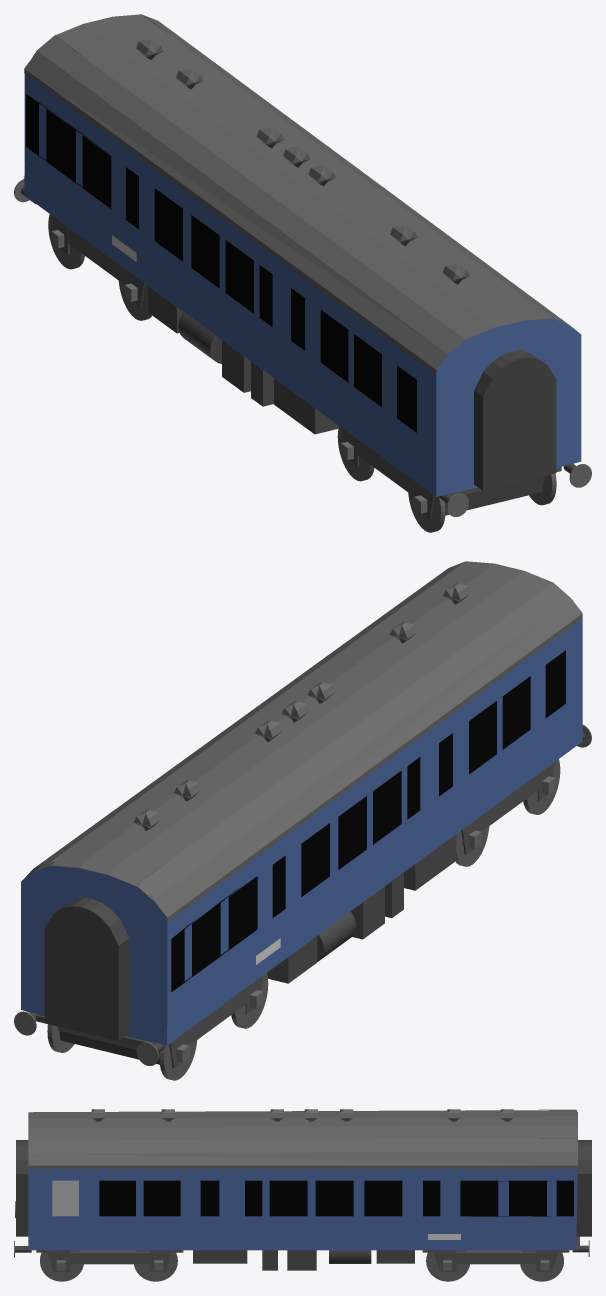
File: BR-101-tsl-b.dae
3 views of the same model, one above another, from view 1: azimuth 30°, elevation 25°; view 2: azimuth 150°, elevation 25°; view 3: azimuth 270°, elevation 25° (orthographic). The views are drawn at different scales.
Visible parts, largest first — view 1: BR-cl101-front_rear, Cube, Cube_060_001, Cube_001, Cube_043_001, Cube_043, Cylinder_002, Cube_003, Cube_004, Cube_002, Cylinder_011_001; view 2: BR-cl101-front_rear, Cube_005, Cube_043, Cube_001, Cube_043_001, Cube_004, Cube_003, Cube_061, Cylinder_002, Cylinder_010, Cube_002; view 3: BR-cl101-front_rear, Cube_005, Cube_043, Cube_043_001, Cube, Cube_001, Cube_003, Cylinder_009_001, Cylinder_008, Cylinder_009, Cylinder_008_001, Cylinder_003 (+4 smaller).
Boxes of the visible parts, bbox=[...] form: BR-cl101-front_rear: bbox=[24, 14, 581, 496]; Cube: bbox=[474, 351, 556, 490]; Cube_060_001: bbox=[422, 467, 561, 519]; Cube_001: bbox=[274, 378, 338, 434]; Cube_043_001: bbox=[357, 439, 431, 508]; Cube_043: bbox=[68, 228, 141, 296]; Cylinder_002: bbox=[178, 312, 221, 363]; Cube_003: bbox=[222, 340, 250, 392]; Cube_004: bbox=[148, 286, 183, 333]; Cube_002: bbox=[251, 361, 273, 406]; Cylinder_011_001: bbox=[408, 493, 445, 532]; BR-cl101-front_rear: bbox=[21, 561, 582, 1045]; Cube_005: bbox=[44, 896, 129, 1040]; Cube_043: bbox=[58, 977, 260, 1058]; Cube_001: bbox=[404, 834, 456, 890]; Cube_043_001: bbox=[462, 764, 552, 844]; Cube_004: bbox=[167, 923, 317, 983]; Cube_003: bbox=[351, 886, 384, 939]; Cube_061: bbox=[59, 1031, 186, 1067]; Cylinder_002: bbox=[317, 911, 355, 961]; Cylinder_010: bbox=[159, 1040, 197, 1080]; Cube_002: bbox=[385, 872, 403, 918]; BR-cl101-front_rear: bbox=[28, 1109, 579, 1250]; Cube_005: bbox=[576, 1140, 591, 1236]; Cube_043: bbox=[456, 1250, 555, 1264]; Cube_043_001: bbox=[70, 1250, 169, 1264]; Cube: bbox=[16, 1140, 28, 1236]; Cube_001: bbox=[193, 1250, 247, 1263]; Cube_003: bbox=[287, 1250, 316, 1270]; Cylinder_009_001: bbox=[134, 1250, 177, 1281]; Cylinder_008: bbox=[426, 1250, 469, 1281]; Cylinder_009: bbox=[520, 1250, 563, 1281]; Cylinder_008_001: bbox=[40, 1250, 83, 1281]; Cylinder_003: bbox=[329, 1250, 371, 1263].
Bounding box in the file's own units: 2.04 × 10.35 × 3.05.
